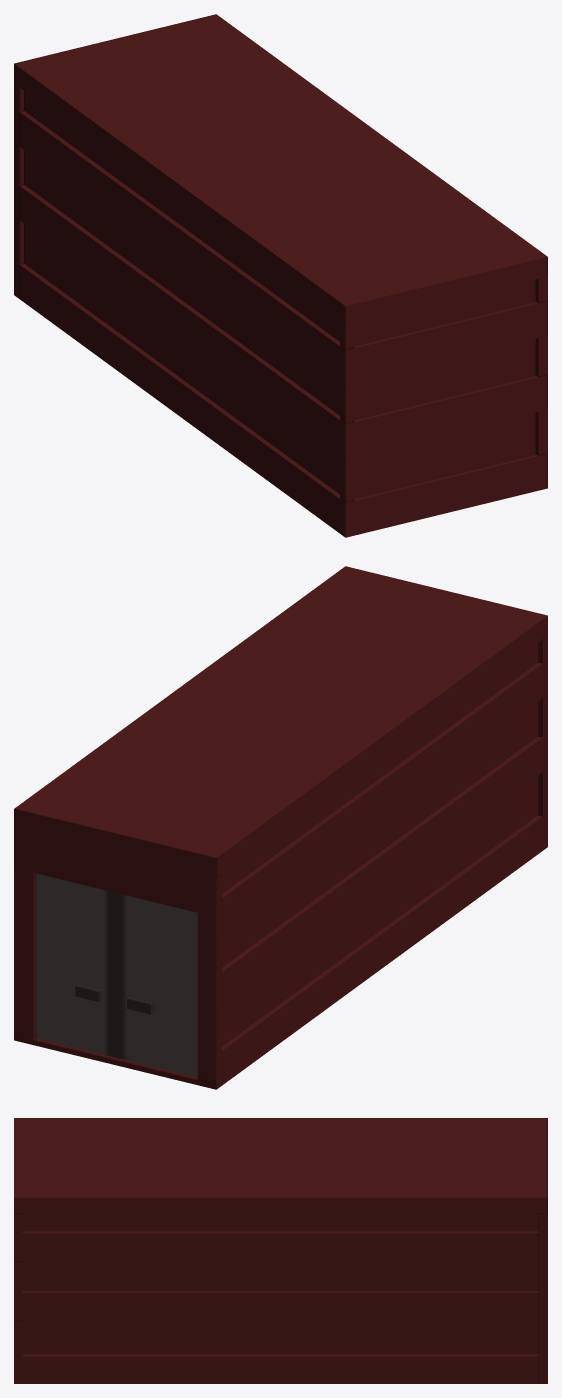
The model's file is kontyner_big.dae.
The picture shows the model from 3 angles, top to bottom: view 1: azimuth 30°, elevation 25°; view 2: azimuth 150°, elevation 25°; view 3: azimuth 270°, elevation 25°; orthographic projection. The views are drawn at different scales.
Visible parts, largest first — view 1: Content; view 2: Content; view 3: Content.
Part boxes in pixels (bbox=[...]): Content: bbox=[14, 14, 547, 537]; Content: bbox=[14, 566, 547, 1089]; Content: bbox=[14, 1118, 547, 1383].
Size of the model in its own units: 43 by 47 by 122.
1 material, 1 textured.
